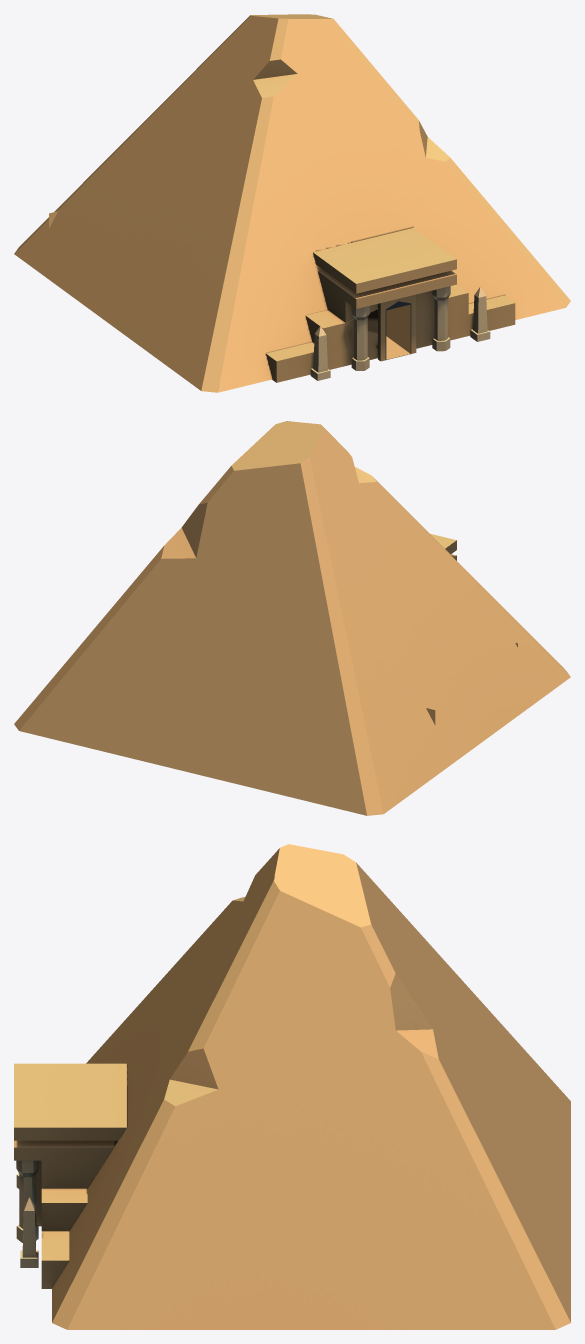
The picture shows the model from 3 angles, top to bottom: view 1: azimuth 30°, elevation 25°; view 2: azimuth 150°, elevation 25°; view 3: azimuth 270°, elevation 25°; orthographic projection. The views are drawn at different scales.
Visible parts, largest first — view 1: pyramid; view 2: pyramid; view 3: pyramid.
Boxes of the visible parts, x1,y1,x2,y2 form: pyramid: (14,14,570,392); pyramid: (14,421,570,815); pyramid: (14,844,570,1329).
Bounding box in the file's own units: 58 × 41 × 58.
Materials: 1 (1 with a texture image).
